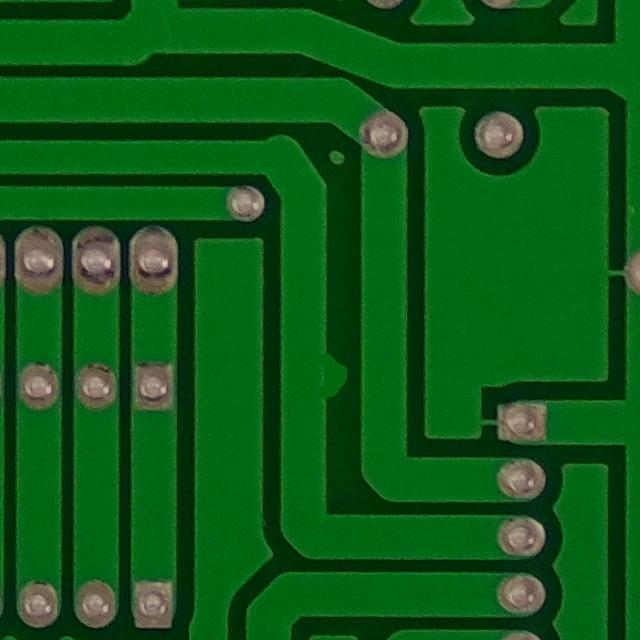spur: (297, 335, 355, 417)
